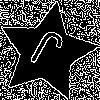J: (22, 27, 67, 80)
